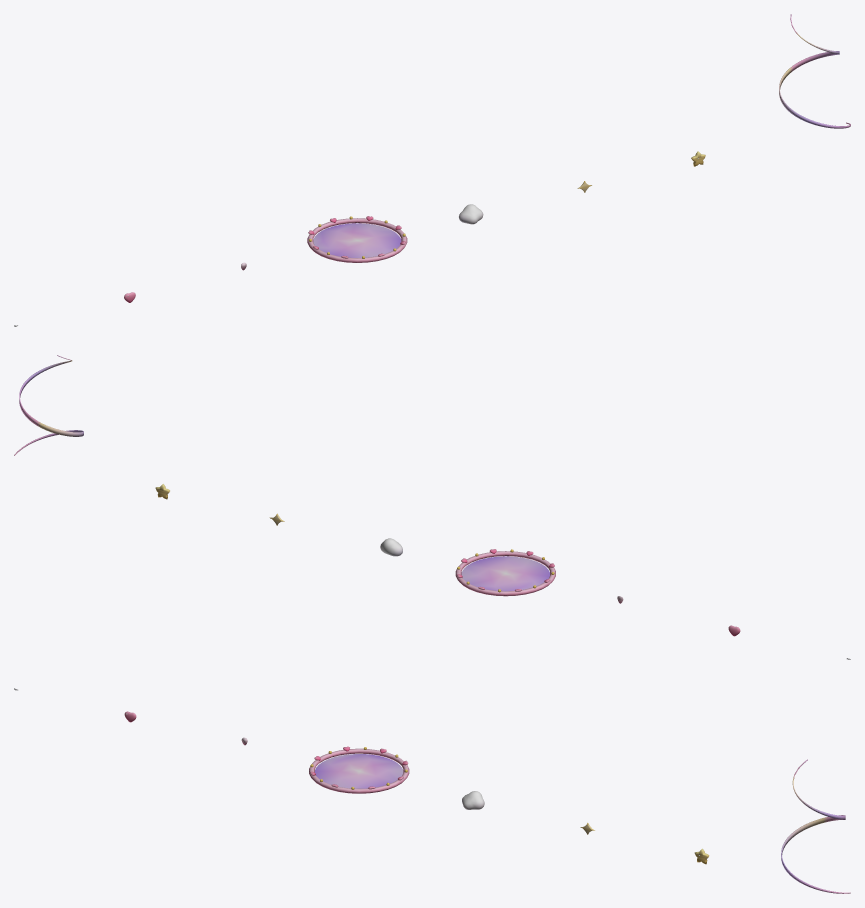
File: prp_warp_lite.glb
3 views of the same model, one above another, from view 1: azimuth 30°, elevation 25°; view 2: azimuth 150°, elevation 25°; view 3: azimuth 330°, elevation 25° (orthographic).
Parts seen in each view (by area): view 1: INST_prp_warp_lite_portal, INST_prp_warp_lite_swirl; view 2: INST_prp_warp_lite_portal, INST_prp_warp_lite_swirl; view 3: INST_prp_warp_lite_portal, INST_prp_warp_lite_swirl.
Part boxes in pixels (x1,y1,x2,y2): INST_prp_warp_lite_portal: [307, 216, 407, 262]; INST_prp_warp_lite_swirl: [779, 14, 850, 128]; INST_prp_warp_lite_portal: [455, 549, 555, 596]; INST_prp_warp_lite_swirl: [14, 355, 83, 455]; INST_prp_warp_lite_portal: [309, 746, 409, 793]; INST_prp_warp_lite_swirl: [781, 759, 850, 893].
Bounding box in the file's own units: 14.64 × 2.07 × 1.53.
